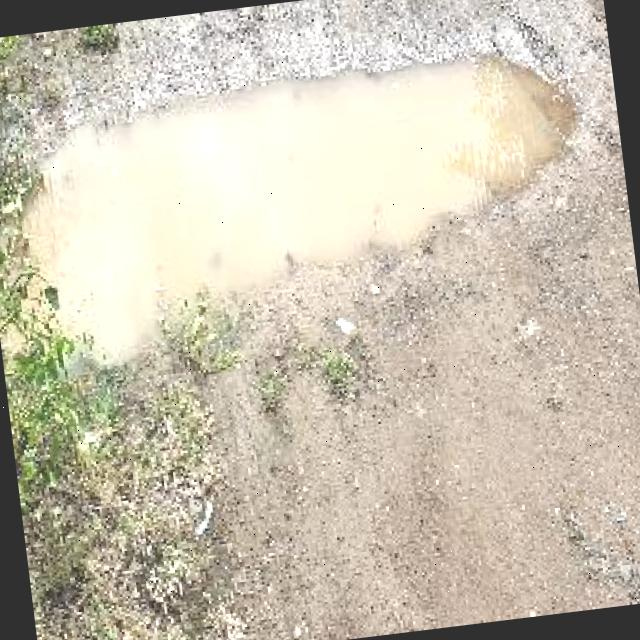waterlogging: (0, 15, 590, 377)
